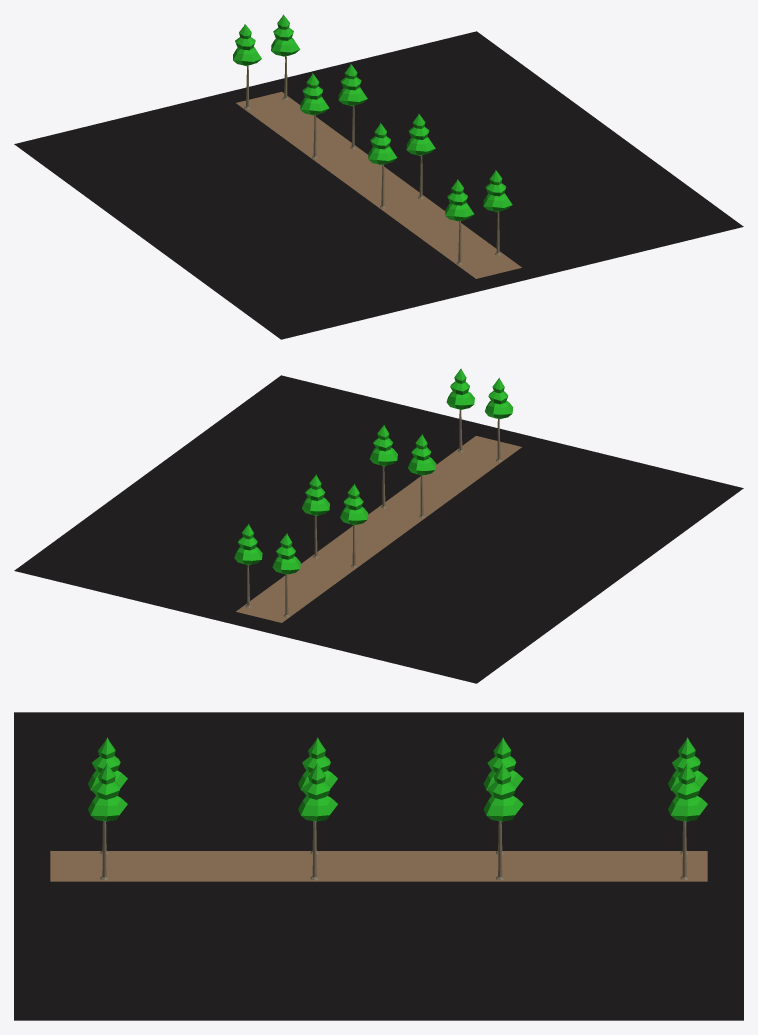
Rendered from Tile 16_Combined_2.fbx.
3 renders of one model, top to bottom at view 1: azimuth 30°, elevation 25°; view 2: azimuth 150°, elevation 25°; view 3: azimuth 270°, elevation 25°, orthographic. The views are drawn at different scales.
Visible parts, largest first — view 1: MeshBaker_Cluster_0_mesh_mesh; view 2: MeshBaker_Cluster_0_mesh_mesh; view 3: MeshBaker_Cluster_0_mesh_mesh.
Boxes of the visible parts, x1=… form: MeshBaker_Cluster_0_mesh_mesh: x1=14, y1=14, x2=743, y2=339; MeshBaker_Cluster_0_mesh_mesh: x1=14, y1=368, x2=743, y2=683; MeshBaker_Cluster_0_mesh_mesh: x1=14, y1=712, x2=743, y2=1020.
Bounding box in the file's own units: 3000 × 524 × 3000.
